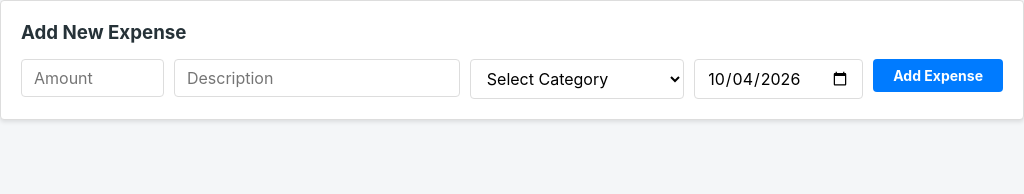
Scenario: ExpenseForm › shows an API error when submission fails
Type "4" into the number field with placeholder "Amount" at (92, 78), box [21,59,164,97]
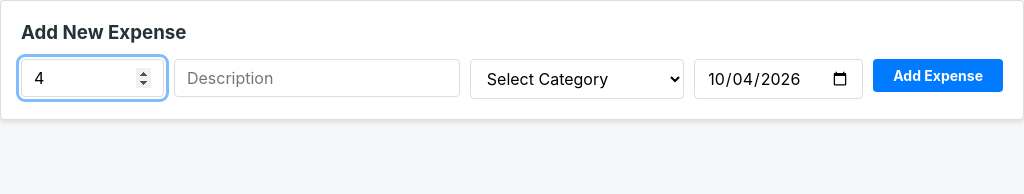
Type "Coffee" into the field with placeholder "Description" at (317, 78), box [174,59,460,97]
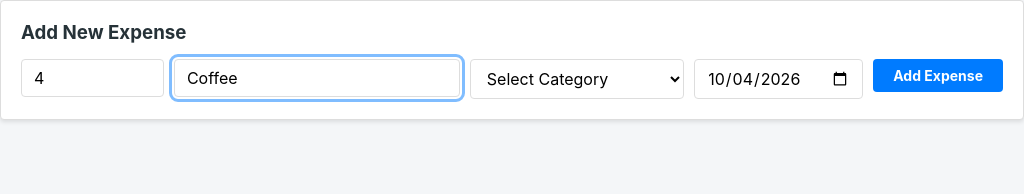
Select "Food" in the dropdown at (577, 79), box [470,59,684,99]
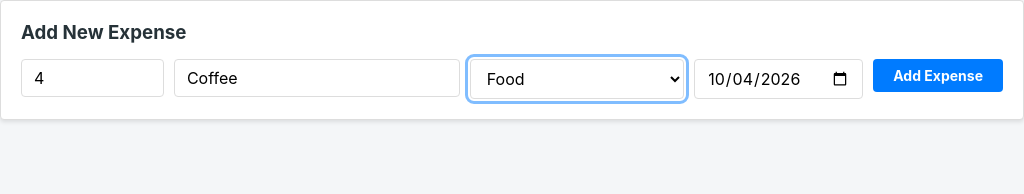
Click the button "Add Expense" at (938, 76), box [873,59,1003,92]
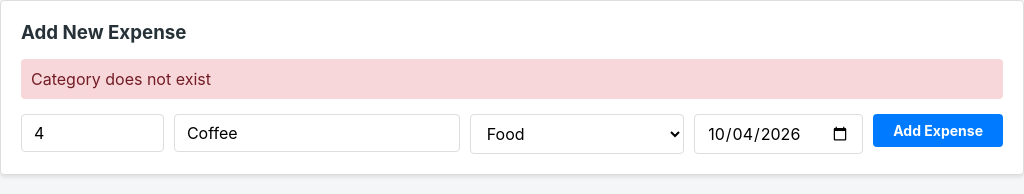
Expected: the text "Category does not exist" is shown, [21,59,1003,99]
